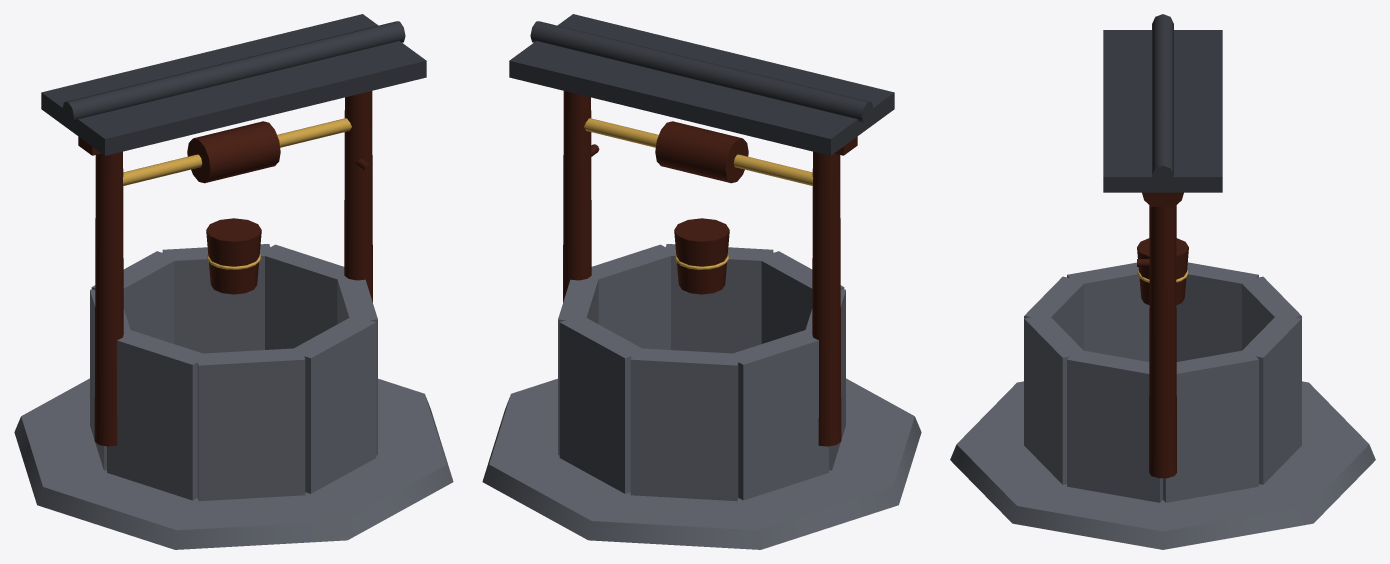
File: pal1-courtyard-ancient-well.glb
3 renders of one model, left to right at view 1: azimuth 30°, elevation 25°; view 2: azimuth 150°, elevation 25°; view 3: azimuth 270°, elevation 25°, orthographic. The views are drawn at different scales.
Visible parts, largest first — view 1: Pal1AncientWell; view 2: Pal1AncientWell; view 3: Pal1AncientWell.
Part boxes in pixels (x1,y1,x2,y2): Pal1AncientWell: (14, 14, 453, 549); Pal1AncientWell: (482, 14, 921, 549); Pal1AncientWell: (950, 14, 1375, 549).
Size of what is drawn, in the model's own units: 1.96 by 1.88 by 1.96.
